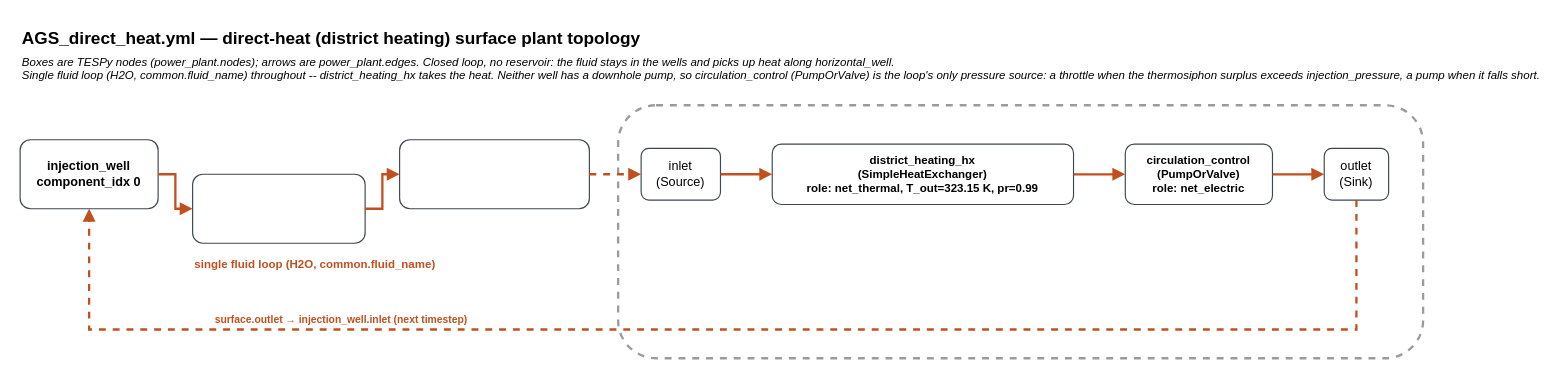
This 1561x378 diagram has some shape labels left out. The shapes that lost their labels are listed below. From the top down, each one's box as (x1, y1, x2, y2) in pixels, then its label:
(398, 139, 589, 209): production_well idx 2, no downhole pump
(191, 173, 365, 243): horizontal_well (loop) idx 1, heat exchange
(616, 103, 1424, 359): surface (GraphSurface) — idx 3 — power_plant.nodes/edges
